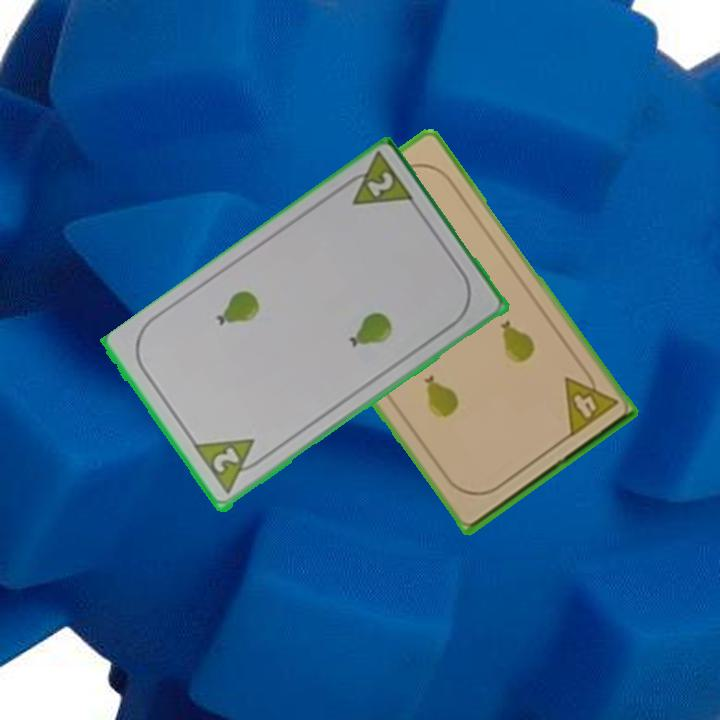2p: (191, 435, 269, 499), (335, 150, 418, 210)
4p: (560, 363, 620, 440)
